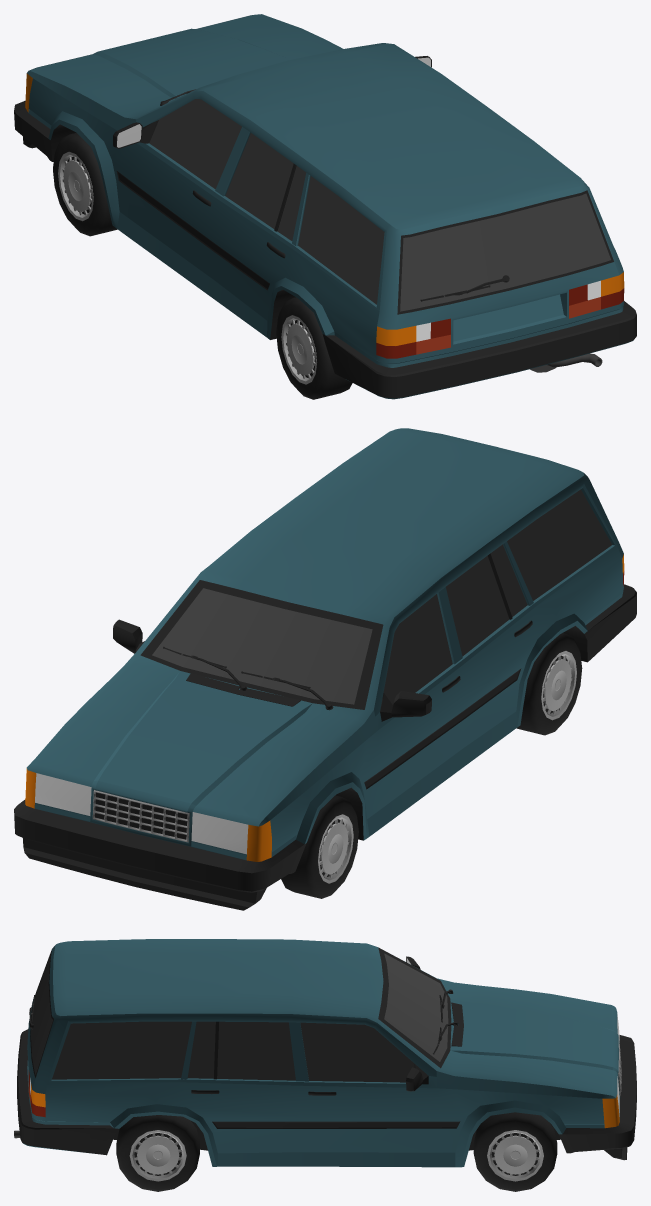
File: m8_wagon_teal.glb
3 renders of one model, top to bottom at view 1: azimuth 30°, elevation 25°; view 2: azimuth 150°, elevation 25°; view 3: azimuth 270°, elevation 25°, orthographic. The views are drawn at different scales.
Parts seen in each view (by area): view 1: Body, Wheel_RL, Wheel_FL, Interior; view 2: Body, Wheel_FL, Wheel_RL; view 3: Body, Wheel_FR, Wheel_RR, Interior.
Boxes of the visible parts, x1,y1,x2,y2 form: Body: (14, 14, 636, 399); Wheel_RL: (276, 297, 352, 399); Wheel_FL: (53, 133, 117, 236); Interior: (160, 89, 602, 372); Body: (14, 428, 636, 910); Wheel_FL: (281, 795, 358, 898); Wheel_RL: (516, 633, 582, 735); Body: (17, 939, 636, 1167); Wheel_FR: (473, 1112, 557, 1191); Wheel_RR: (116, 1115, 199, 1191); Interior: (14, 989, 457, 1138).
Bounding box in the file's own units: 2.13 × 1.36 × 4.54.
Materials: 1 (1 with a texture image).
